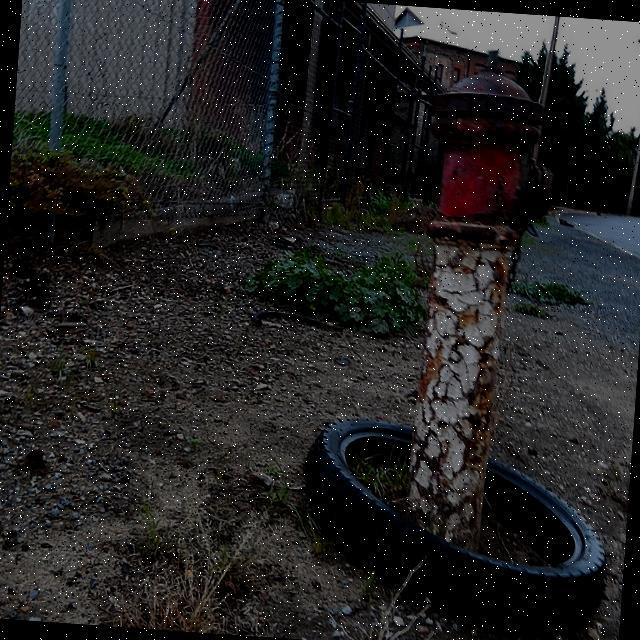fire_hydrant: (397, 44, 562, 560)
